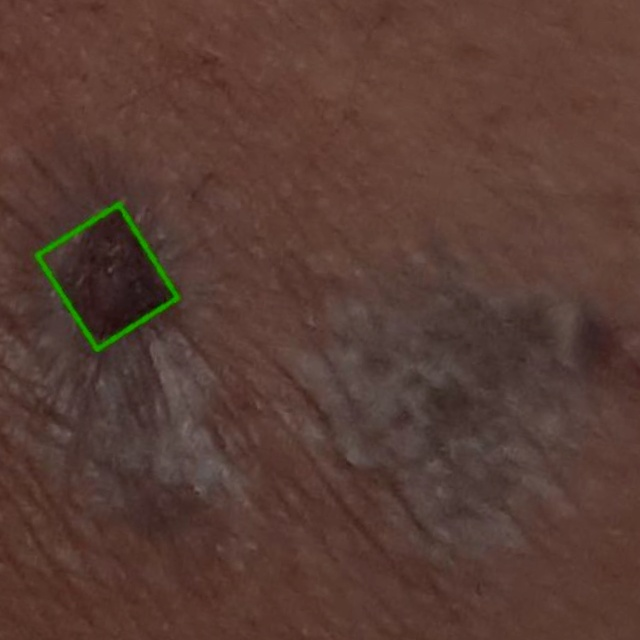Atopic Dermatitis: (37, 205, 177, 349)
